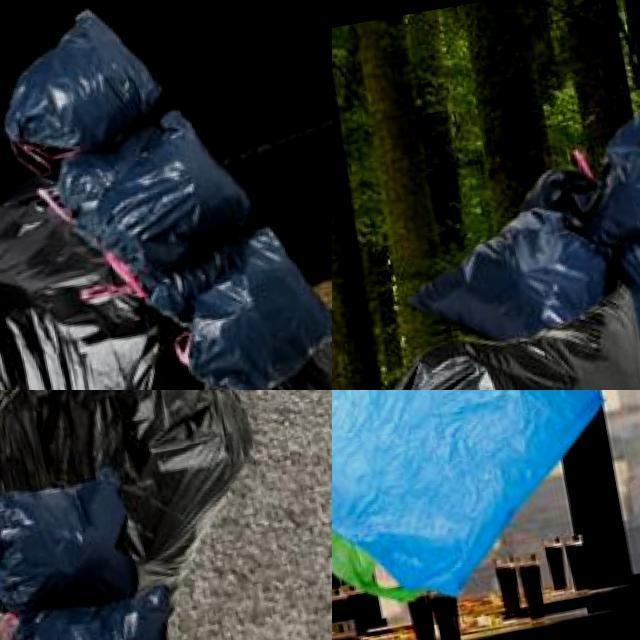waste: (332, 390, 596, 623), (0, 390, 278, 604), (48, 101, 268, 274), (398, 197, 608, 352), (160, 209, 332, 390), (0, 0, 174, 166), (348, 292, 640, 390), (0, 462, 144, 622), (332, 390, 397, 640), (5, 577, 194, 640), (575, 97, 640, 256), (602, 238, 640, 390)
